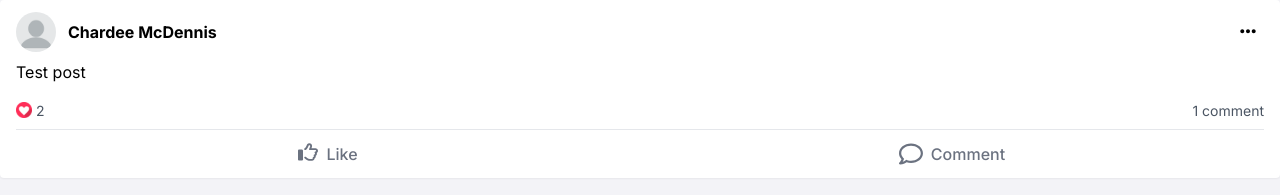
Test: Post menu display tests › Closes post menu on click of ellipsis btn if menu is already open
Open and close with double btn press
Click the button with test id "menu" at (1248, 31), box left=1232, top=18, right=1264, bottom=44
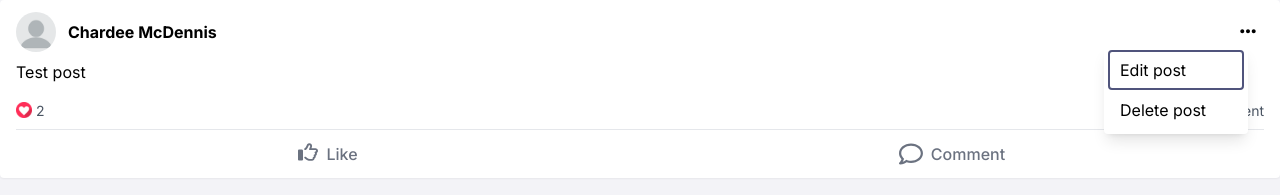
Click the button with test id "menu" at (1248, 31), box left=1232, top=18, right=1264, bottom=44
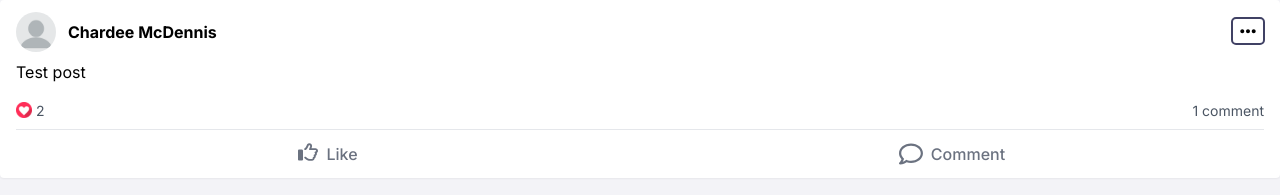
Result: the menu with test id "dropdown" is gone
